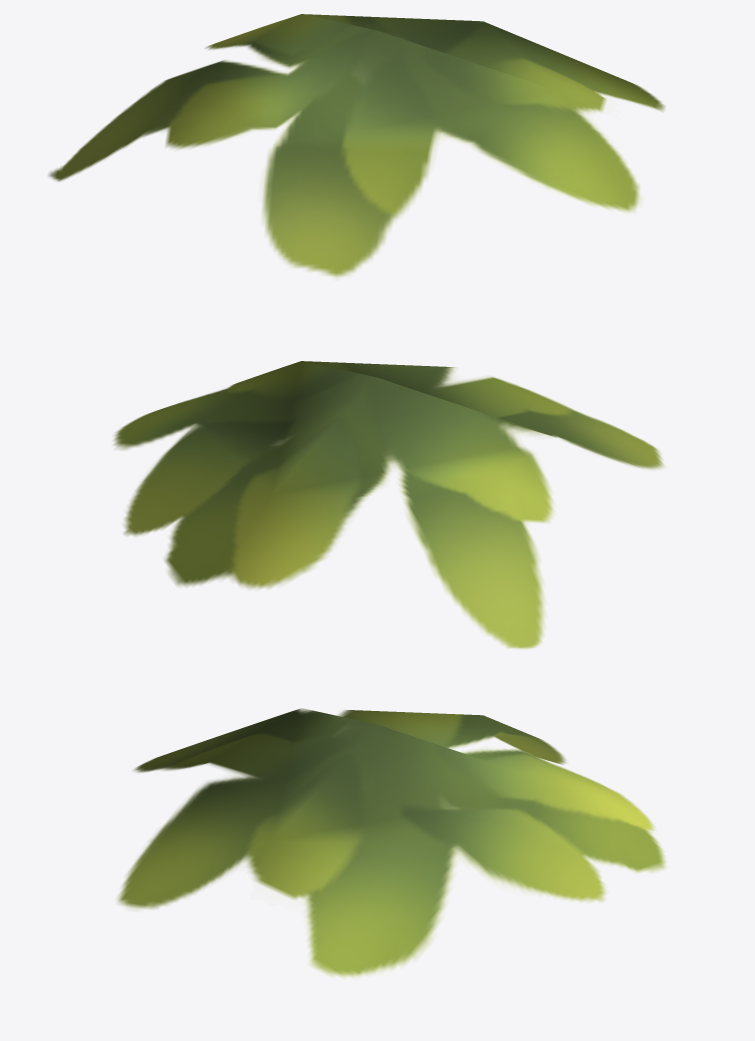
Rendered from leafage5.glb.
The picture shows the model from 3 angles, top to bottom: view 1: azimuth 30°, elevation 25°; view 2: azimuth 150°, elevation 25°; view 3: azimuth 270°, elevation 25°; orthographic projection.
Visible parts, largest first — view 1: Leafage5; view 2: Leafage5; view 3: Leafage5.
Part boxes in pixels (x1=…): Leafage5: x1=48, y1=14, x2=665, y2=277; Leafage5: x1=113, y1=361, x2=664, y2=649; Leafage5: x1=117, y1=708, x2=666, y2=977.
Size of the model in its own units: 0.8882 by 0.2005 by 0.8882.
1 material, 1 textured.
